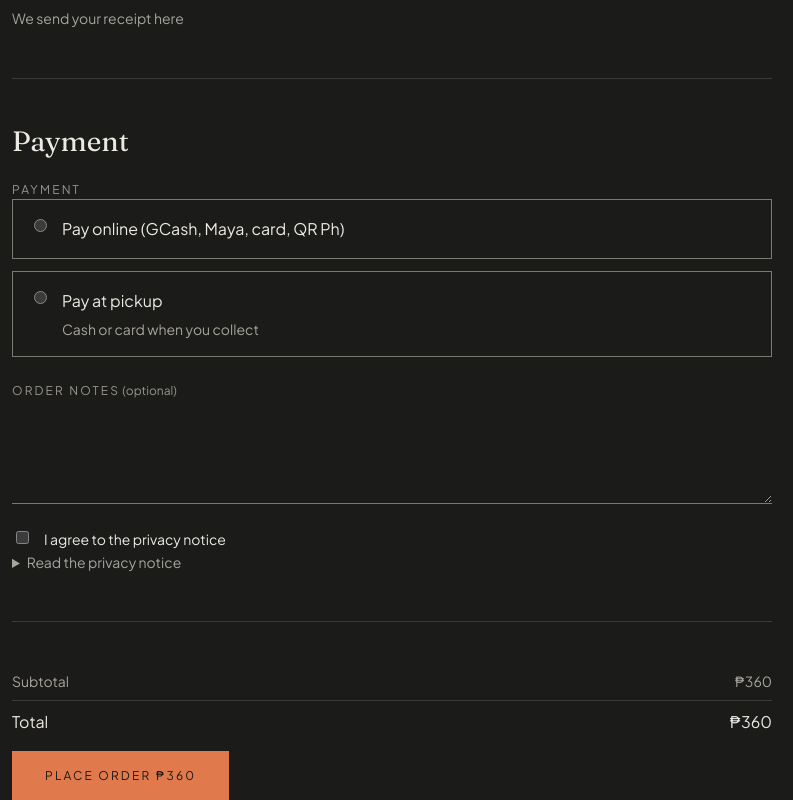
CheckoutPage › checks every field on submit, focuses the first problem, and places nothing
(page scrolled)
Click the button "Place order ₱360".
click(121, 775)  # box [12,751,229,799]
(page scrolled)
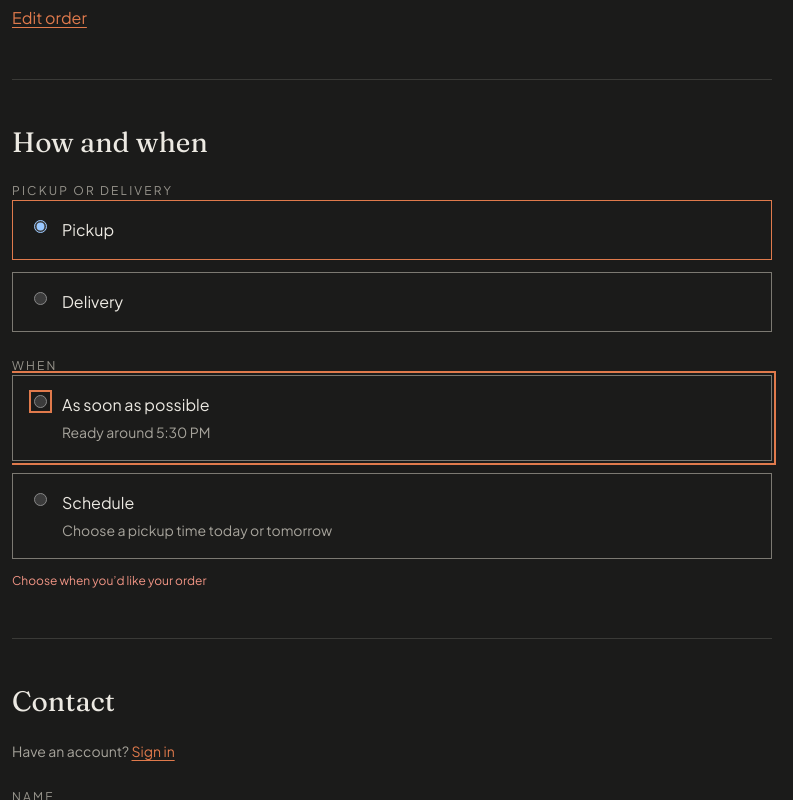
Result: the text "Choose when you’d like your order" is shown at [12,573,206,588]
